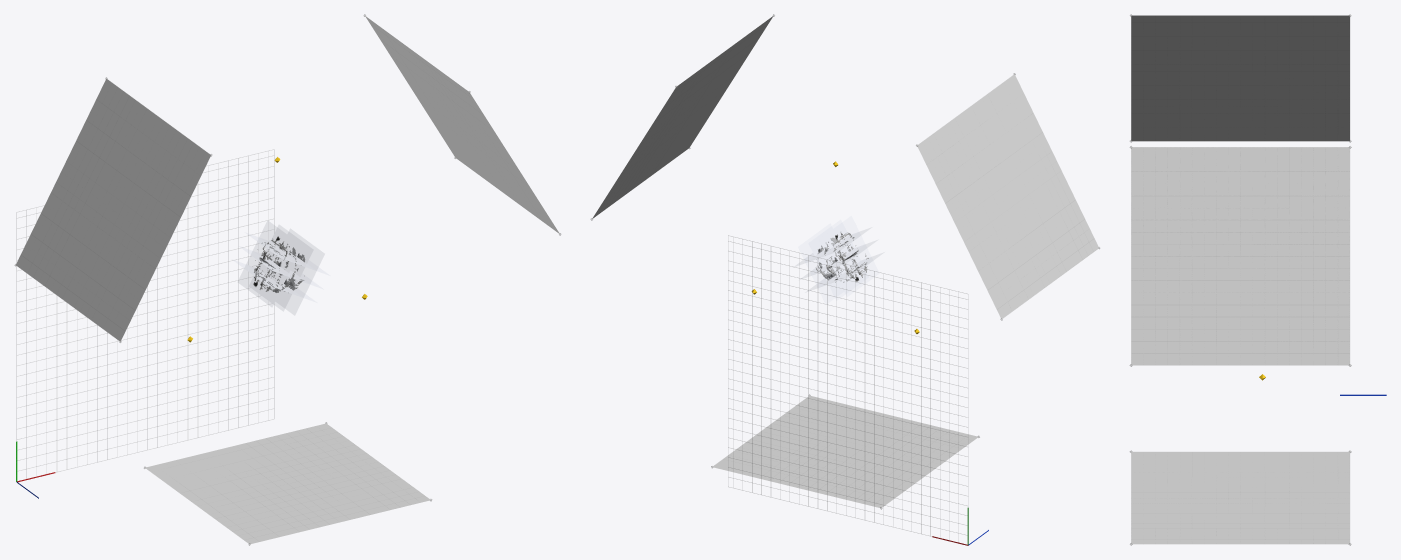
File: faces2_shards.obj
The picture shows the model from 3 angles, left to right: view 1: azimuth 30°, elevation 25°; view 2: azimuth 150°, elevation 25°; view 3: azimuth 270°, elevation 25°; orthographic projection. The views are drawn at different scales.
Parts seen in each view (by area): view 1: wall_C, wall_A, wall_B, grid_floor, panel_F0p2, panel_F0p1, panel_F0p0, grid_wallA, grid_wallC; view 2: wall_C, wall_A, wall_B, grid_floor, panel_F0p2, panel_F0p1, panel_F0p0; view 3: wall_B, wall_C, wall_A, grid_wallB.
Boxes of the visible parts, x1,y1,x2,y2 form: wall_C: [16, 79, 210, 341]; wall_A: [145, 423, 429, 543]; wall_B: [365, 16, 559, 233]; grid_floor: [16, 149, 274, 478]; panel_F0p2: [238, 221, 301, 306]; panel_F0p1: [250, 225, 312, 310]; panel_F0p0: [276, 229, 324, 314]; grid_wallA: [177, 424, 427, 540]; grid_wallC: [17, 80, 192, 337]; wall_C: [917, 74, 1098, 318]; wall_A: [713, 396, 977, 507]; wall_B: [592, 16, 773, 218]; grid_floor: [728, 235, 968, 536]; panel_F0p2: [819, 216, 878, 296]; panel_F0p1: [809, 220, 867, 299]; panel_F0p0: [798, 224, 843, 303]; wall_B: [1131, 147, 1349, 365]; wall_C: [1131, 15, 1349, 141]; wall_A: [1131, 452, 1349, 544]; grid_wallB: [1131, 147, 1349, 365].
Bounding box in the file's own units: 4394 × 3809 × 2115.
